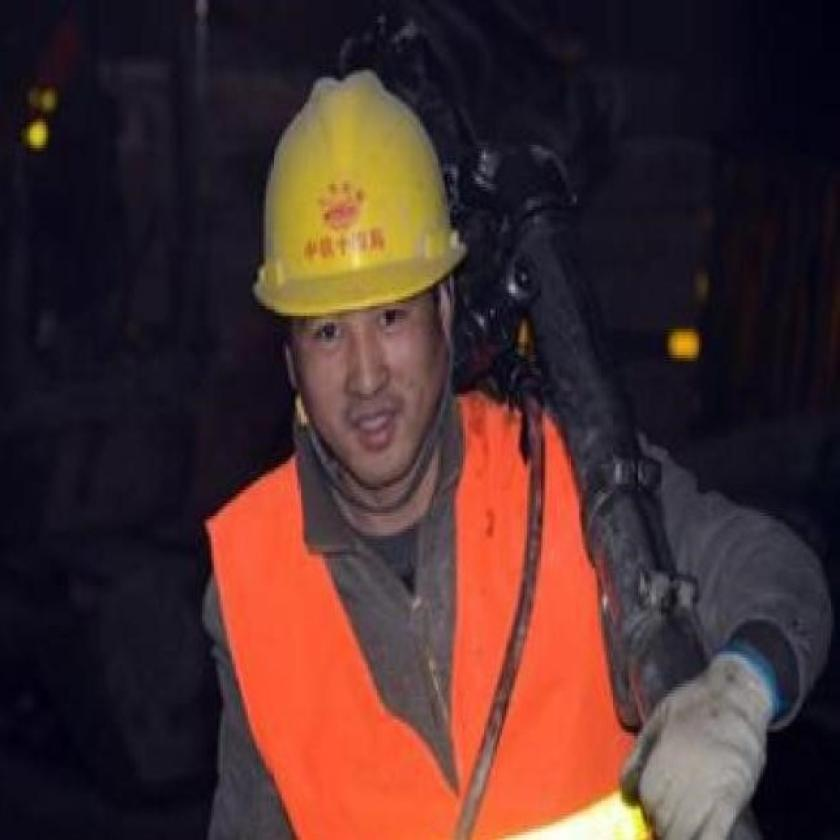Con_casco: (236, 60, 474, 497)
